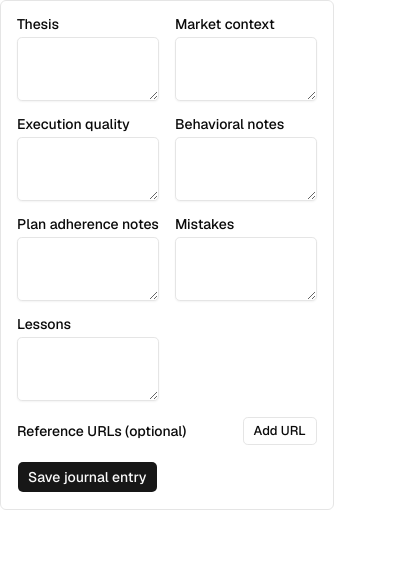
Test: JournalForm › submits the entered fields on save
Type "breakout continuation" into the text box labelled "Thesis" at (88, 69), box left=17, top=37, right=159, bottom=101
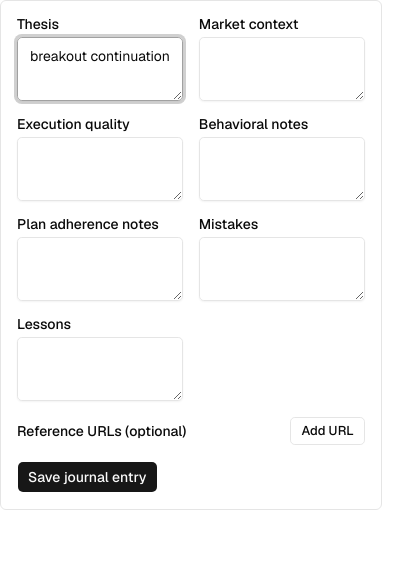
Click the button "Save journal entry" at (87, 477), box left=17, top=461, right=158, bottom=493
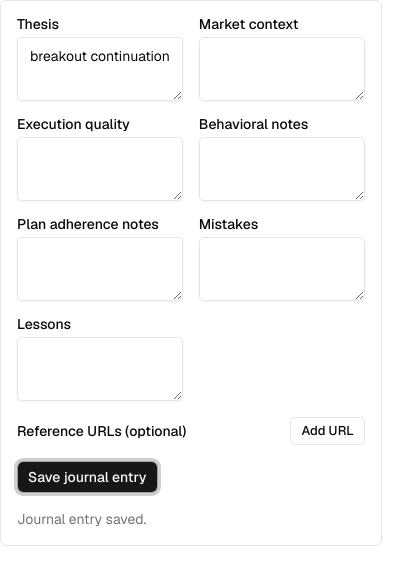
Result: the text "Journal entry saved." is shown at left=17, top=510, right=146, bottom=528
